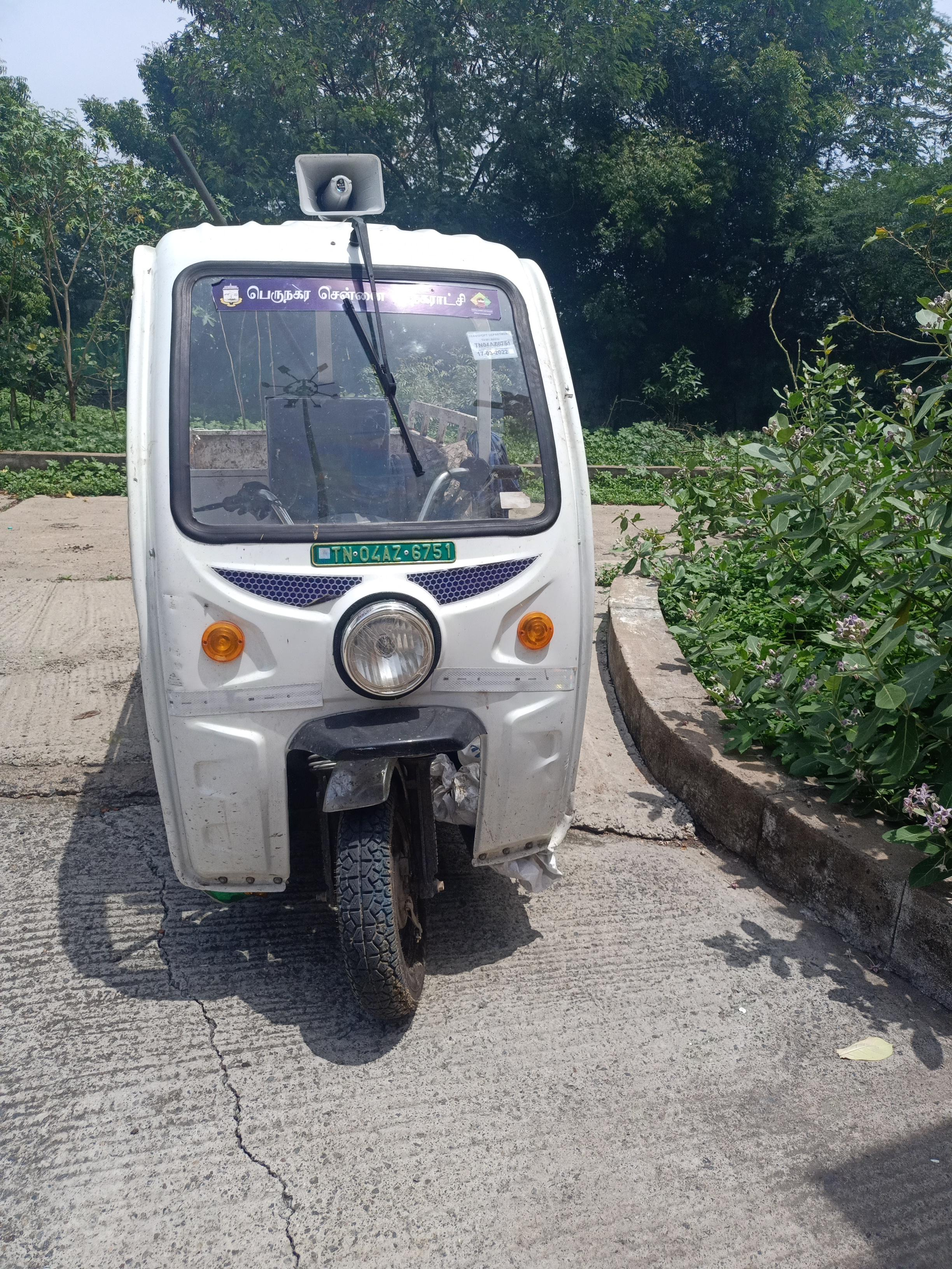green license plate: (308, 541, 466, 559)
